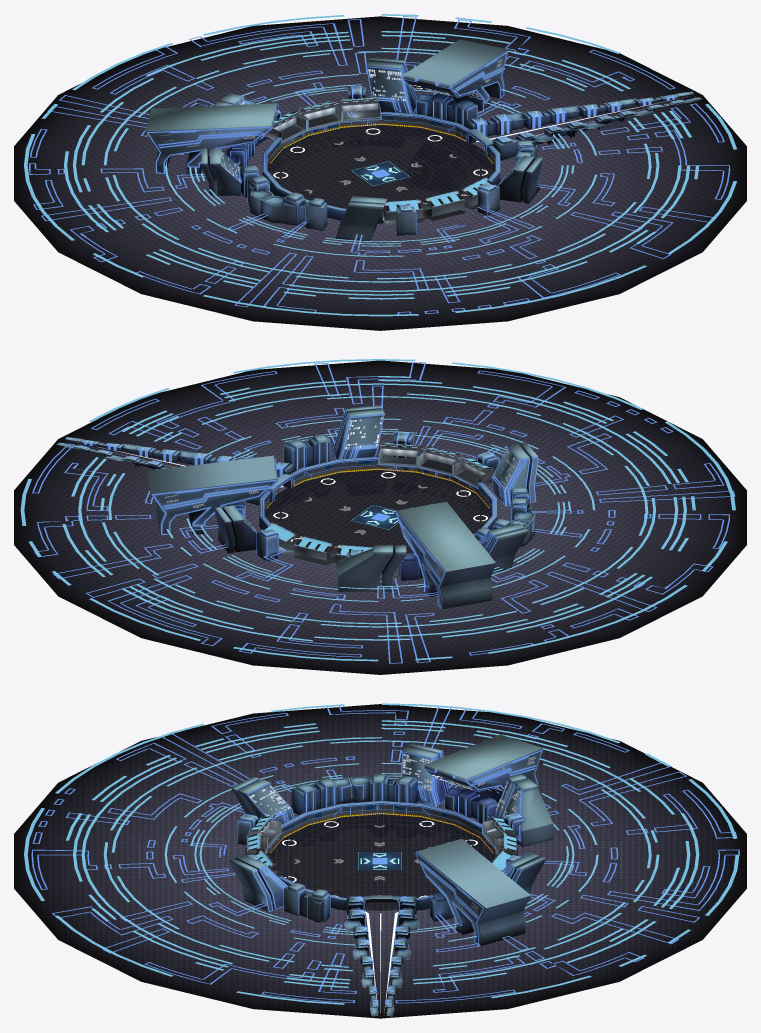
File: Arena.gltf
3 renders of one model, top to bottom at view 1: azimuth 30°, elevation 25°; view 2: azimuth 150°, elevation 25°; view 3: azimuth 270°, elevation 25°, orthographic.
Parts seen in each view (by area): view 1: polygon57_City Floor_0.001, polygon3_Glow Cyan_0.001, polygon9_Glow Blue_0.001, polygon56_Arena Floor_0.001, polygon33_Large Buildings 2_0.001, polygon35_Large Buildings 1_0.001, polygon63_Entrance Facade_0.001, polygon48_Small Buildings 2_0.001, polygon72_Crowd Stands_0.001, polygon67_Arena Wall_0.001, polygon42_Small Buildings 1_0.001, polygon54_Glow Cyan_0.001 (+2 smaller); view 2: polygon57_City Floor_0.001, polygon9_Glow Blue_0.001, polygon3_Glow Cyan_0.001, polygon33_Large Buildings 2_0.001, polygon56_Arena Floor_0.001, polygon35_Large Buildings 1_0.001, polygon72_Crowd Stands_0.001, polygon63_Entrance Facade_0.001, polygon42_Small Buildings 1_0.001, polygon67_Arena Wall_0.001, polygon48_Small Buildings 2_0.001, polygon54_Glow Cyan_0.001 (+2 smaller); view 3: polygon57_City Floor_0.001, polygon9_Glow Blue_0.001, polygon3_Glow Cyan_0.001, polygon56_Arena Floor_0.001, polygon35_Large Buildings 1_0.001, polygon33_Large Buildings 2_0.001, polygon48_Small Buildings 2_0.001, polygon63_Entrance Facade_0.001, polygon67_Arena Wall_0.001, polygon42_Small Buildings 1_0.001, polygon72_Crowd Stands_0.001, polygon28_Windows_0.001 (+3 smaller).
Boxes of the visible parts, x1,y1,x2,y2 form: polygon57_City Floor_0.001: (14, 16, 746, 330); polygon3_Glow Cyan_0.001: (24, 14, 736, 316); polygon9_Glow Blue_0.001: (29, 16, 730, 314); polygon56_Arena Floor_0.001: (267, 124, 495, 222); polygon33_Large Buildings 2_0.001: (145, 93, 386, 240); polygon35_Large Buildings 1_0.001: (366, 39, 543, 203); polygon63_Entrance Facade_0.001: (466, 91, 701, 160); polygon48_Small Buildings 2_0.001: (226, 110, 416, 235); polygon72_Crowd Stands_0.001: (264, 96, 496, 224); polygon67_Arena Wall_0.001: (262, 111, 500, 223); polygon42_Small Buildings 1_0.001: (347, 86, 537, 215); polygon54_Glow Cyan_0.001: (274, 97, 489, 211); polygon57_City Floor_0.001: (14, 360, 746, 674); polygon9_Glow Blue_0.001: (32, 362, 735, 663); polygon3_Glow Cyan_0.001: (20, 359, 735, 661); polygon33_Large Buildings 2_0.001: (338, 442, 537, 609); polygon56_Arena Floor_0.001: (264, 469, 492, 563); polygon35_Large Buildings 1_0.001: (146, 405, 384, 553); polygon72_Crowd Stands_0.001: (262, 441, 494, 567); polygon63_Entrance Facade_0.001: (56, 437, 293, 505); polygon42_Small Buildings 1_0.001: (226, 432, 413, 561); polygon67_Arena Wall_0.001: (259, 456, 496, 567); polygon48_Small Buildings 2_0.001: (346, 451, 535, 580); polygon54_Glow Cyan_0.001: (264, 443, 489, 555); polygon57_City Floor_0.001: (14, 704, 746, 1018); polygon9_Glow Blue_0.001: (31, 706, 739, 1005); polygon3_Glow Cyan_0.001: (24, 703, 739, 1004); polygon56_Arena Floor_0.001: (267, 813, 495, 910); polygon35_Large Buildings 1_0.001: (229, 838, 545, 945); polygon33_Large Buildings 2_0.001: (231, 734, 553, 846); polygon48_Small Buildings 2_0.001: (237, 774, 525, 844); polygon63_Entrance Facade_0.001: (344, 895, 419, 1016); polygon67_Arena Wall_0.001: (267, 800, 495, 910); polygon42_Small Buildings 1_0.001: (248, 855, 519, 922); polygon72_Crowd Stands_0.001: (245, 814, 517, 876); polygon28_Windows_0.001: (249, 753, 535, 912).
Size of the model in its own units: 99.64 by 16.28 by 98.13.
